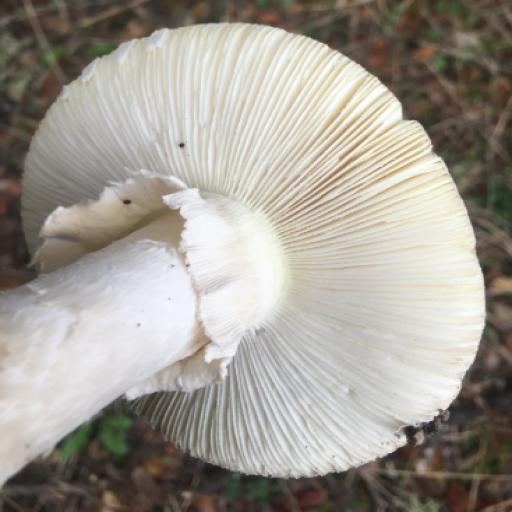mushroom: (0, 19, 488, 482)
